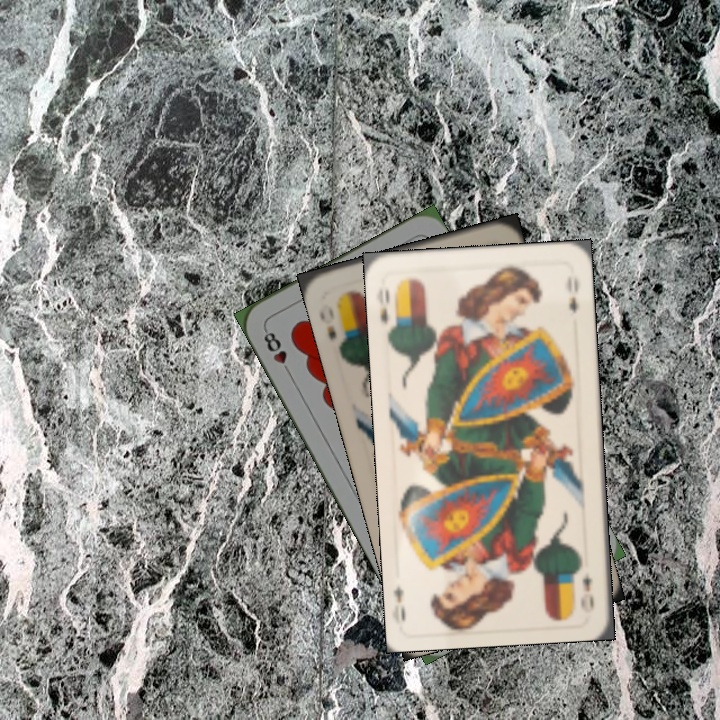EO: (376, 279, 400, 336), (315, 300, 339, 343), (577, 568, 596, 614)
H8: (259, 324, 295, 379)
